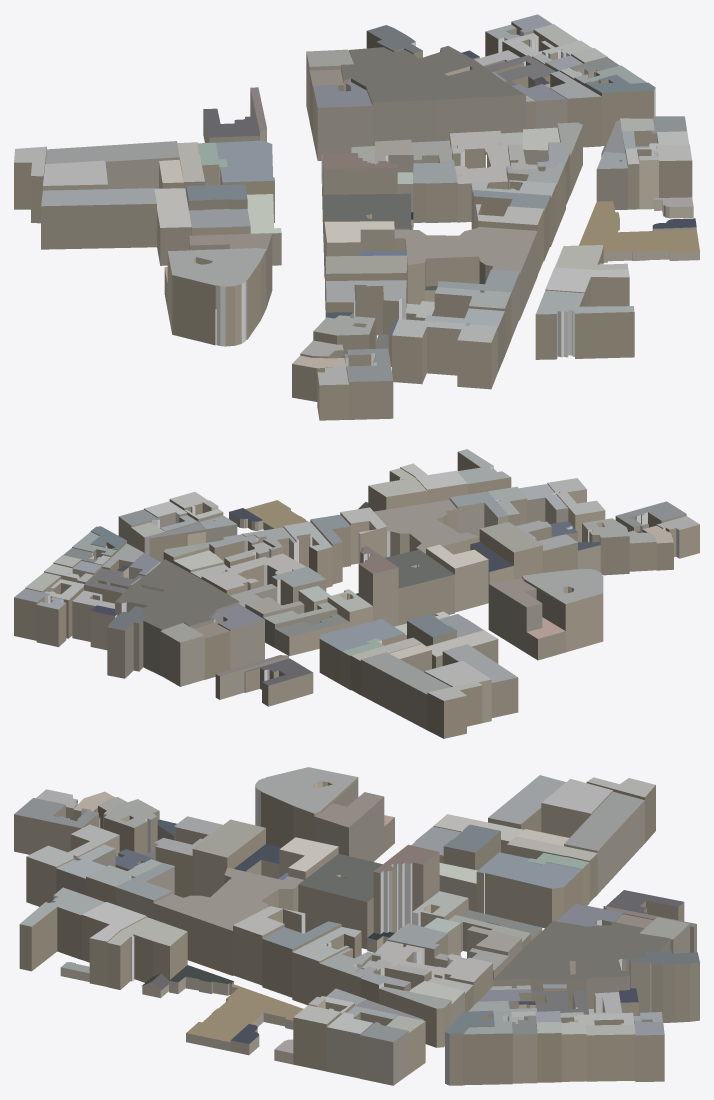
The picture shows the model from 3 angles, top to bottom: view 1: azimuth 30°, elevation 25°; view 2: azimuth 150°, elevation 25°; view 3: azimuth 270°, elevation 25°; orthographic projection. The views are drawn at different scales.
Visible parts, largest first — view 1: tuile; view 2: tuile; view 3: tuile.
Part boxes in pixels (bbox=[...]): tuile: bbox=[14, 14, 699, 420]; tuile: bbox=[14, 449, 699, 738]; tuile: bbox=[14, 767, 699, 1085].
Size of the model in its own units: 258 by 35.07 by 274.
